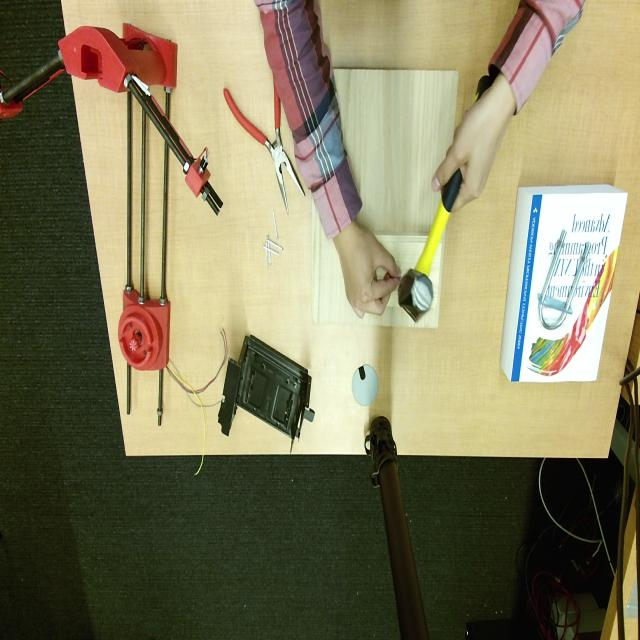hammer: (398, 169, 462, 322)
pliers: (224, 88, 304, 211)
